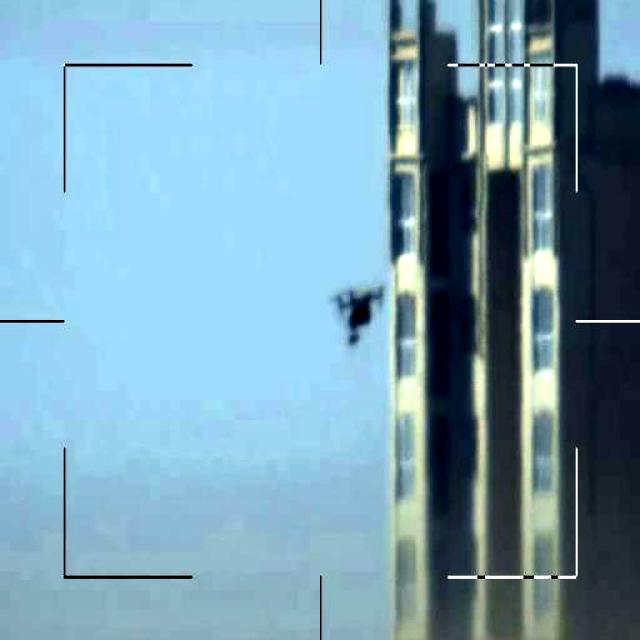bird: (326, 274, 388, 349)
